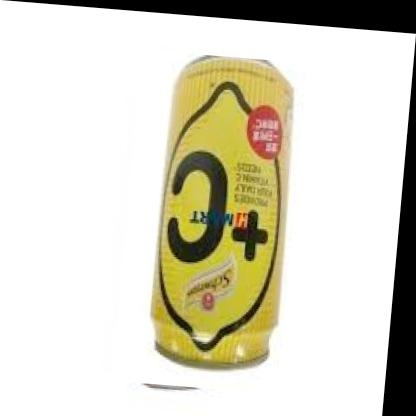trash: (152, 56, 292, 366)
